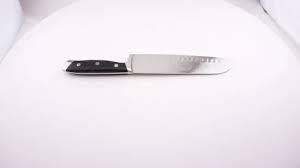Knife: (63, 53, 232, 75)
